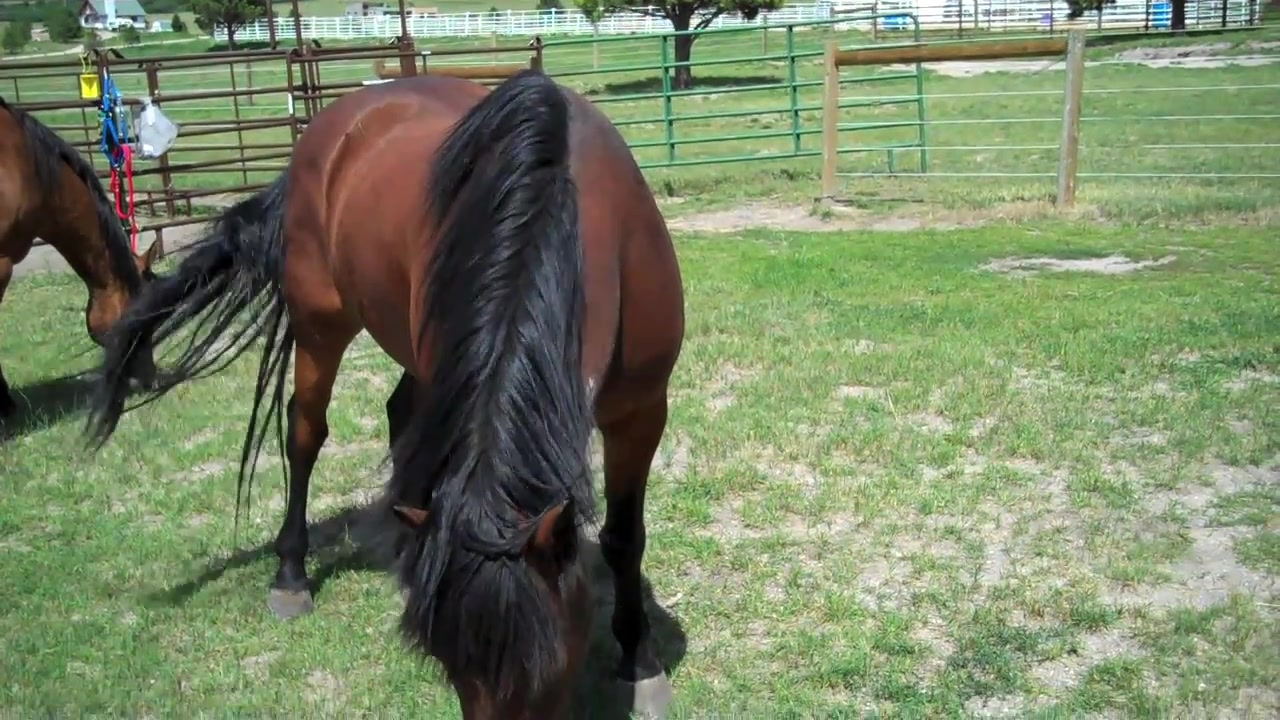horse: (81, 68, 688, 720), (1, 95, 166, 438)
